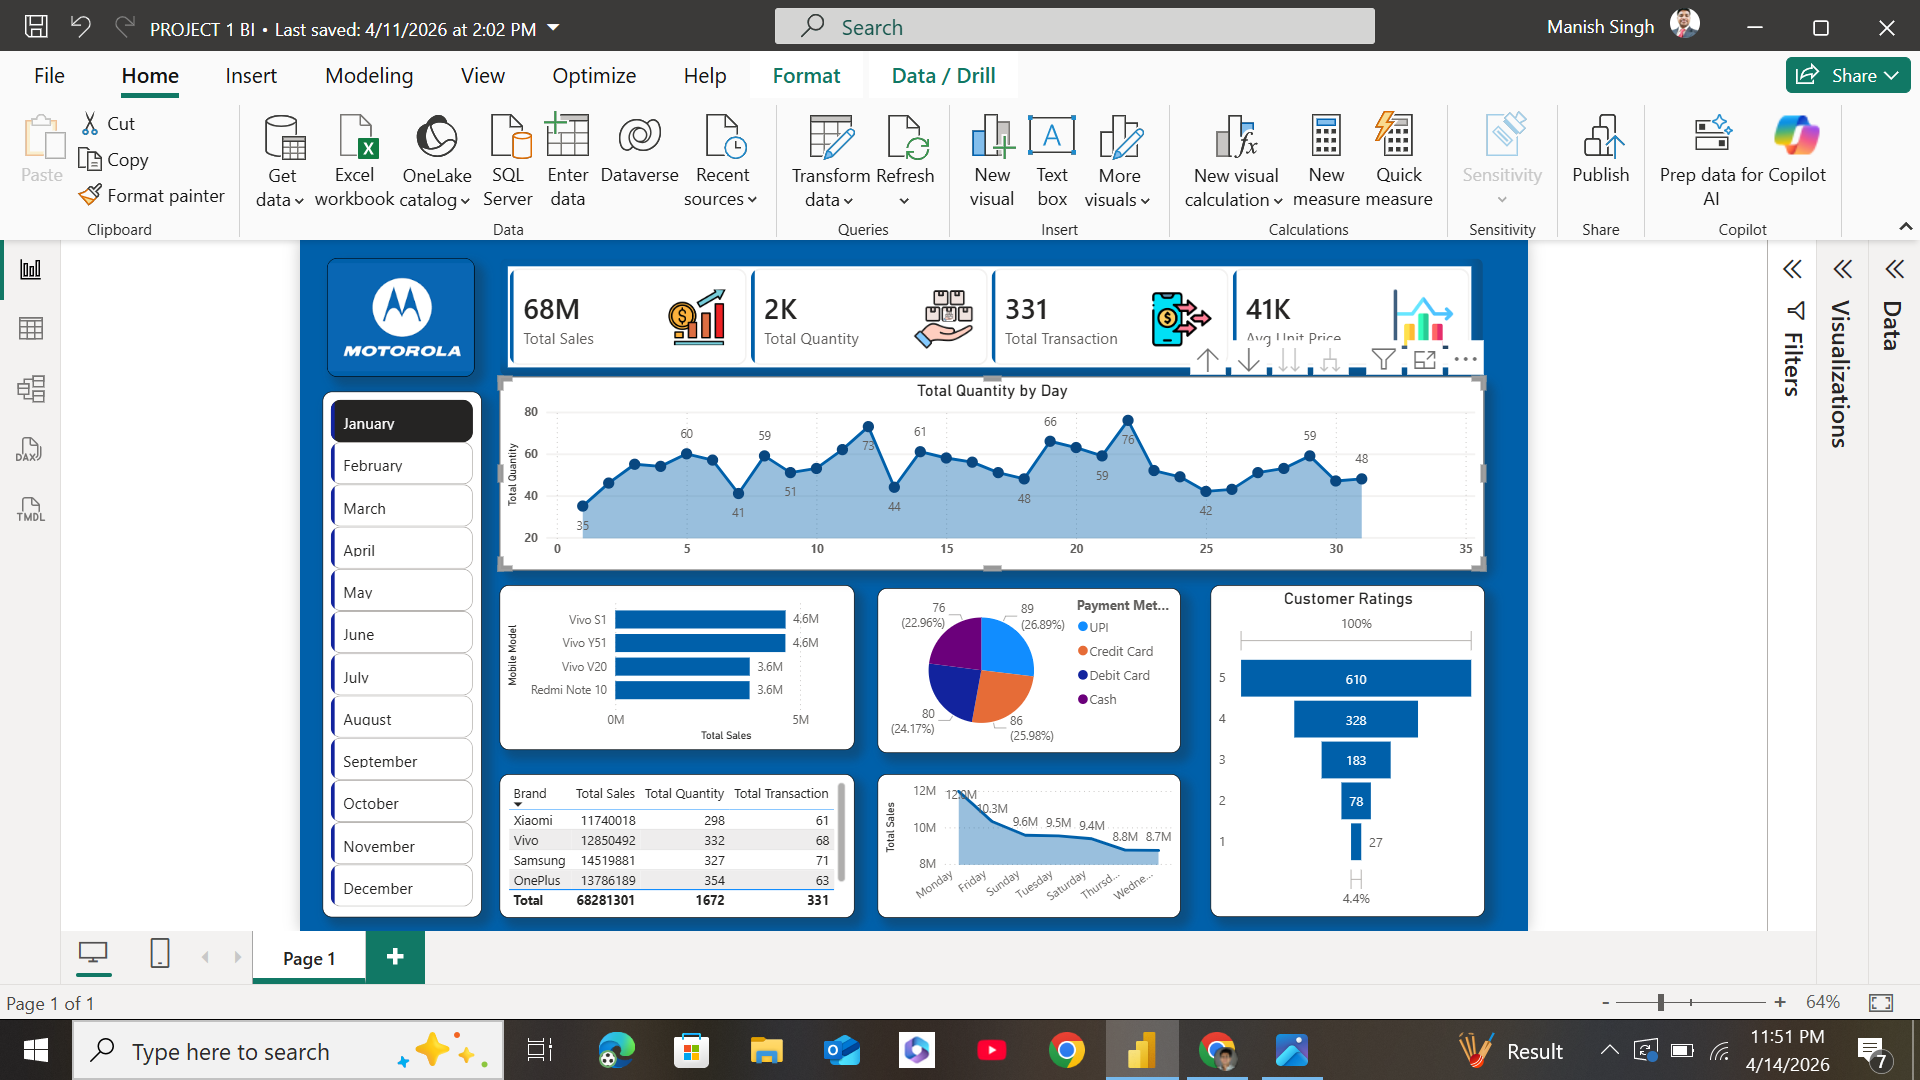

Layout of this report page (visuals, bound fields, positions):
{"tool":"powerbi","page":{"name":"Page 1","canvas":[1280,720],"ordinal":0},"visuals":[{"type":"image","box":[28,18,154,124],"z":0},{"type":"advancedSlicerVisual","fields":{"Values":["Sheet1.Date.Variation.Date Hierarchy.Month"]},"box":[24,158,166,548],"z":1000},{"type":"cardVisual","fields":{"Data":["mobile sales.total_sales","mobile sales.Total Quantity","mobile sales.Total Transaction","mobile sales.Avg Unit Price"]},"box":[207.9,18.8,1025.3,123.5],"z":2000},{"type":"image","box":[374,52,80,58],"z":3000},{"type":"image","box":[632,52,78,62],"z":4000},{"type":"image","box":[1132,52,78,62],"z":5000},{"type":"image","box":[670,48,10,62],"z":6000},{"type":"image","box":[880,52,78,62],"z":7000},{"type":"lineChart","fields":{"Y":["mobile sales.Total Quantity"],"Category":["mobile sales.Date.Variation.Date Hierarchy.Month","mobile sales.Date.Variation.Date Hierarchy.Day"]},"box":[208,142,1026,202],"z":8000},{"type":"clusteredBarChart","fields":{"Category":["mobile sales.Mobile Model"],"Y":["mobile sales.Total Sales"]},"box":[208,360,370,172],"z":9000},{"type":"pieChart","fields":{"Category":["mobile sales.Payment Method"],"Y":["mobile sales.Total Transaction"]},"box":[602,362,316,172],"z":10000},{"type":"funnel","title":" Customer Ratings ","fields":{"Y":["Sum(mobile sales.Customer Ratings)"],"Category":["mobile sales.Customer Ratings"]},"box":[948,360,286,346],"z":11000},{"type":"tableEx","fields":{"Values":["mobile sales.Brand","mobile sales.Total Sales","mobile sales.Total Quantity","mobile sales.Total Transaction"]},"box":[208,556,370,150],"z":12000},{"type":"areaChart","fields":{"Y":["mobile sales.Total Sales"],"Category":["mobile sales.Day Name"]},"box":[602,556,316,150],"z":13000}]}

Visuals, with their boxes on the page's 1280x720 design canvas (x1, y1, x2, y2). These are canvas units, not pixel positions in the 1920x1080 screenshot, which may show the page scaled, cropped or inside an application window:
image: bbox=(28, 18, 182, 142)
advancedSlicerVisual - Sheet1.Date.Variation.Date Hierarchy.Month: bbox=(24, 158, 190, 706)
cardVisual - mobile sales.total_sales x mobile sales.Total Quantity: bbox=(208, 19, 1233, 142)
image: bbox=(374, 52, 454, 110)
image: bbox=(632, 52, 710, 114)
image: bbox=(1132, 52, 1210, 114)
image: bbox=(670, 48, 680, 110)
image: bbox=(880, 52, 958, 114)
lineChart - mobile sales.Total Quantity x mobile sales.Date.Variation.Date Hierarchy.Month: bbox=(208, 142, 1234, 344)
clusteredBarChart - mobile sales.Mobile Model x mobile sales.Total Sales: bbox=(208, 360, 578, 532)
pieChart - mobile sales.Payment Method x mobile sales.Total Transaction: bbox=(602, 362, 918, 534)
" Customer Ratings " funnel: bbox=(948, 360, 1234, 706)
tableEx - mobile sales.Brand x mobile sales.Total Sales: bbox=(208, 556, 578, 706)
areaChart - mobile sales.Total Sales x mobile sales.Day Name: bbox=(602, 556, 918, 706)
